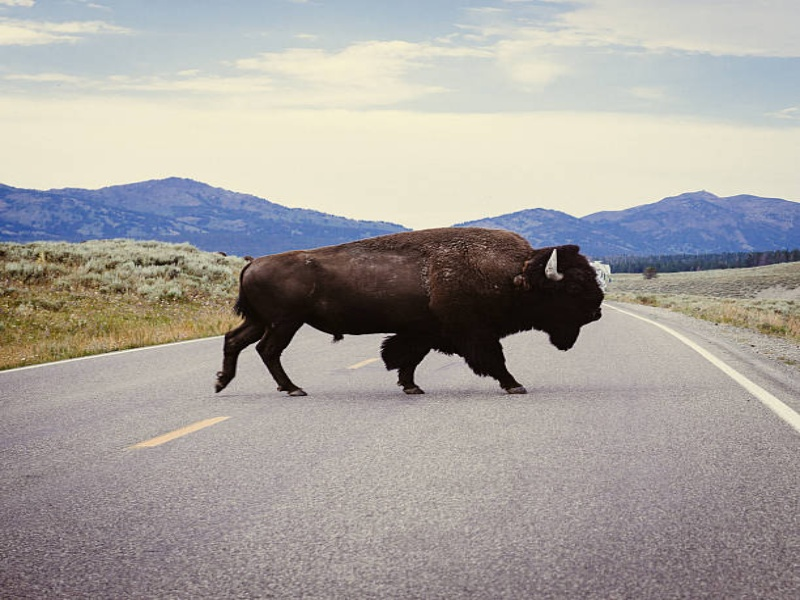buffalo: (202, 226, 619, 408)
